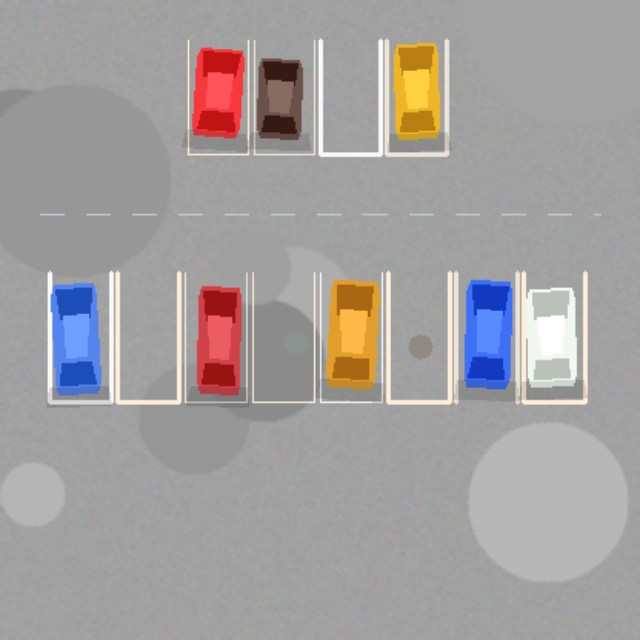space-empty: (252, 272, 314, 402), (117, 272, 178, 402), (388, 272, 449, 402), (320, 40, 380, 154)
space-occupied: (49, 272, 111, 402), (320, 272, 382, 402), (455, 272, 517, 402), (523, 272, 585, 402), (185, 272, 246, 402), (188, 40, 248, 154), (254, 40, 314, 154), (386, 40, 446, 154)
